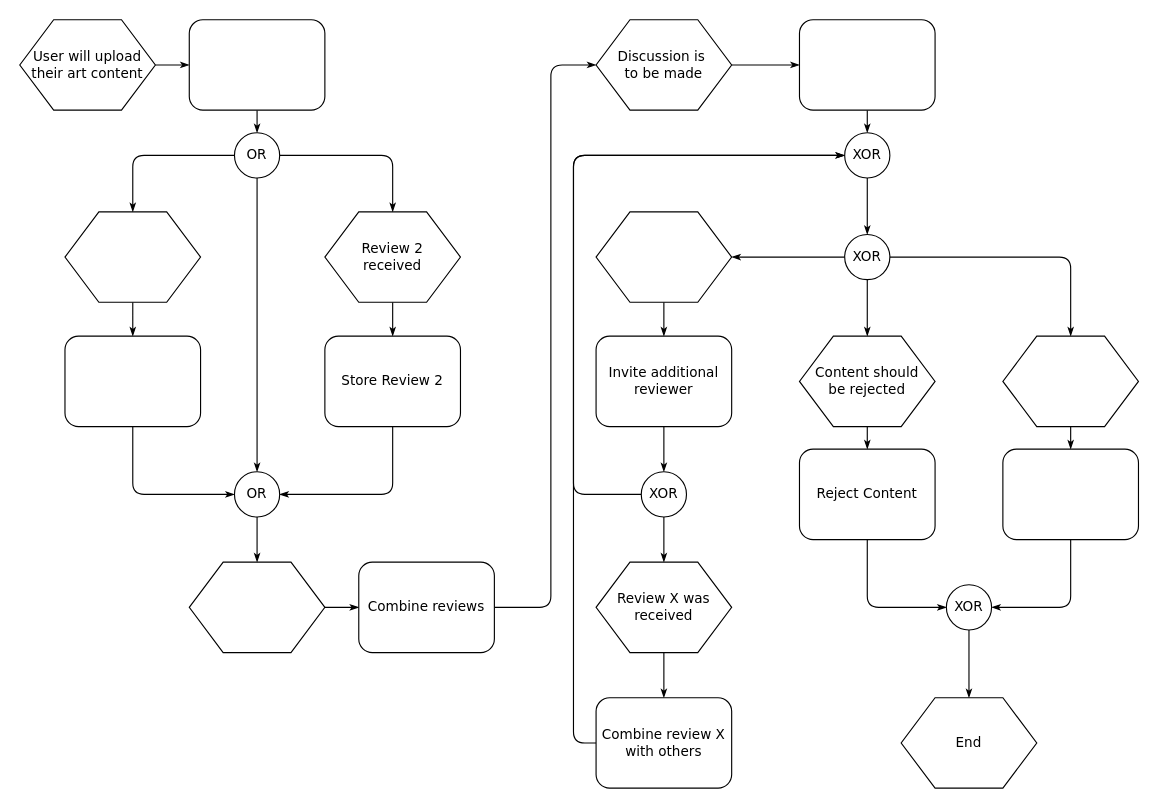
Some shapes in this 1158 by 808 pixel diagram are drawn without their labels. Here are the shapes that lost their labels. From the top down, the centre of each, then its label:
(256,64): ART content will be reviewed
(866,64): Decide on acceptance
(132,256): Review 1 received
(663,256): Additional review is needed
(132,381): Store Review 1
(1070,381): Content should be accepted
(1070,494): Accept Content
(256,607): Reviews are to be combined
